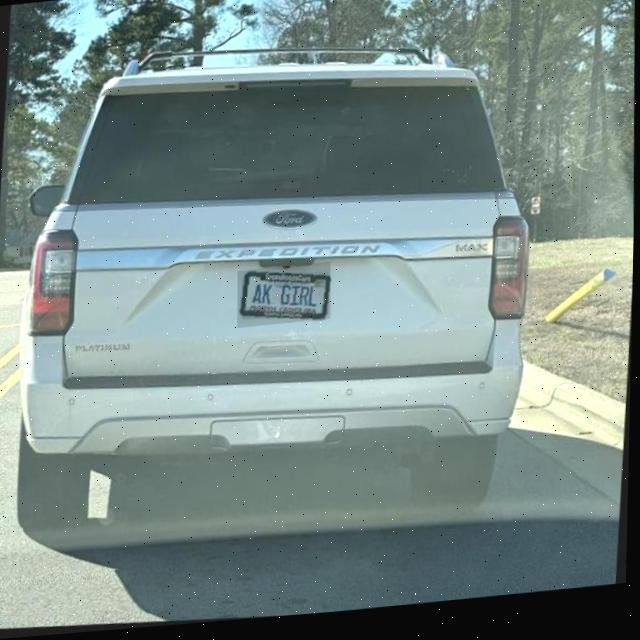LicensePlate: (238, 275, 331, 325)
